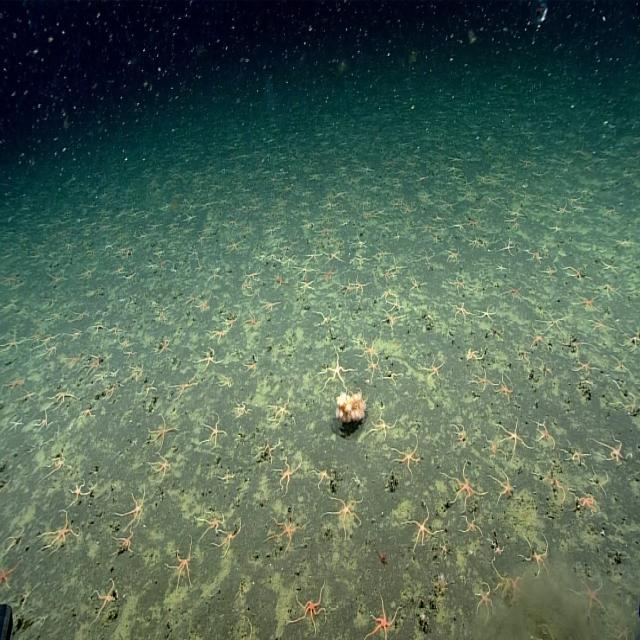brittle-stars: (568, 564, 605, 612), (42, 509, 81, 552), (291, 585, 328, 629), (446, 462, 480, 508), (318, 346, 349, 392), (166, 542, 195, 590), (323, 497, 362, 532), (492, 559, 521, 604), (519, 535, 548, 580), (368, 600, 398, 640), (592, 434, 626, 468), (92, 578, 120, 616), (271, 509, 299, 547), (274, 454, 302, 492), (121, 487, 148, 526), (394, 434, 421, 473), (404, 508, 433, 543), (562, 438, 590, 470), (497, 421, 524, 454), (149, 416, 174, 451), (200, 413, 225, 448), (471, 582, 494, 620), (216, 519, 238, 558), (197, 506, 224, 537), (0, 559, 21, 594), (269, 394, 293, 424), (490, 471, 516, 498), (170, 372, 198, 397), (571, 490, 597, 516), (66, 478, 90, 506), (496, 370, 515, 404), (543, 311, 566, 337), (0, 330, 23, 355), (371, 414, 394, 439), (419, 356, 444, 379), (112, 531, 136, 553), (150, 453, 172, 477), (258, 437, 280, 461), (6, 373, 27, 398), (588, 315, 614, 335), (197, 349, 221, 370), (536, 422, 554, 449), (51, 386, 73, 408), (472, 370, 493, 393), (461, 514, 481, 538), (574, 292, 597, 312), (50, 451, 68, 476), (484, 435, 502, 460), (364, 354, 381, 380), (380, 310, 402, 330), (600, 279, 620, 300), (358, 338, 376, 361), (5, 416, 25, 436), (86, 353, 102, 378), (464, 343, 484, 363), (575, 358, 596, 377), (311, 467, 332, 486), (80, 402, 98, 424), (34, 410, 51, 433), (477, 304, 496, 324), (528, 325, 544, 347), (452, 302, 469, 322), (505, 282, 523, 300), (408, 274, 426, 292), (297, 280, 317, 295), (616, 624, 634, 640), (208, 326, 226, 342), (351, 250, 367, 268), (452, 218, 467, 237), (354, 276, 367, 297), (234, 400, 250, 417), (297, 264, 314, 280), (306, 248, 321, 266), (158, 337, 172, 356), (108, 324, 124, 340), (499, 241, 515, 257), (388, 296, 403, 313), (541, 265, 558, 279), (222, 315, 239, 329), (452, 276, 465, 292), (245, 312, 258, 328), (280, 254, 296, 267), (228, 238, 240, 255), (438, 542, 449, 560), (195, 298, 209, 312), (342, 281, 354, 297), (324, 265, 334, 282), (274, 276, 286, 290), (382, 288, 394, 302), (120, 336, 130, 352), (382, 266, 392, 282), (108, 367, 121, 379), (496, 264, 506, 273)
